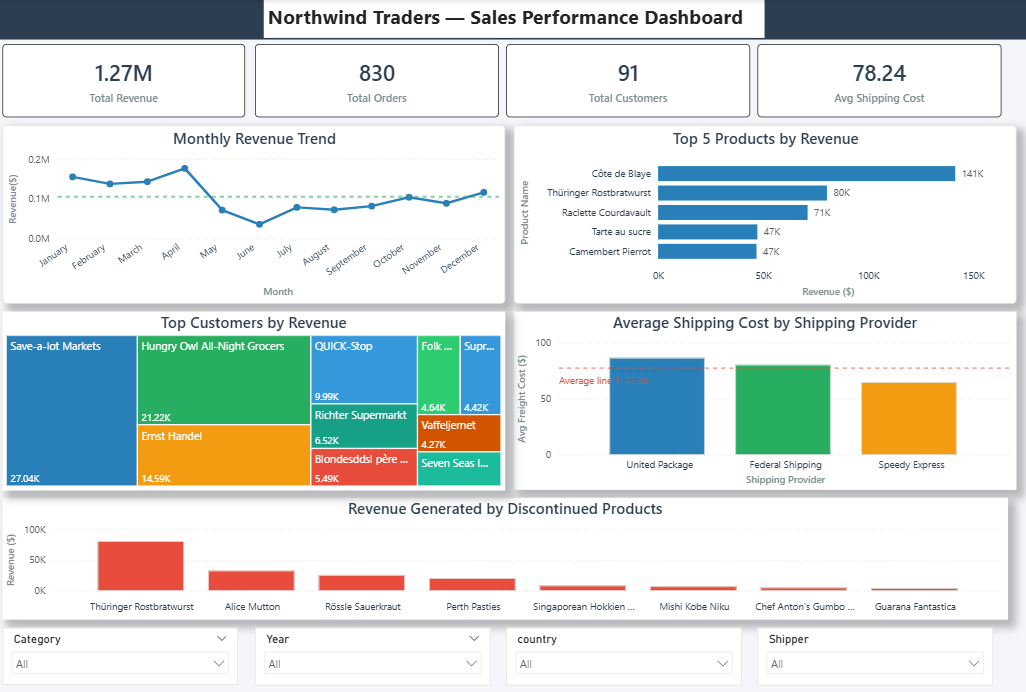

The dashboard page shown, as its layout file describes it:
{"tool":"powerbi","page":{"name":"Sales Dashboard","canvas":[1280,920],"ordinal":0},"visuals":[{"type":"shape","box":[0,0,1280.3,50],"z":0},{"type":"textbox","box":[331.3,0,617.5,48],"z":1000},{"type":"card","fields":{"Values":["categories.Total Revenue"]},"box":[10,55.5,299.1,90],"z":2000},{"type":"card","fields":{"Values":["Count(customers.customerID)"]},"box":[630,55.5,300.6,90],"z":3000},{"type":"card","fields":{"Values":["Avg(orders.freight)"]},"box":[940,55,300.6,90],"z":4000},{"type":"card","fields":{"Values":["categories.Total orders"]},"box":[320,55.5,300.6,90],"z":5000},{"type":"lineChart","title":"Monthly Revenue Trend","fields":{"Y":["categories.Total Revenue"],"Category":["orders.orderDate.Variation.Date Hierarchy.Month"]},"box":[10,155,620,220],"z":6000},{"type":"clusteredBarChart","title":"Top 5 Products by Revenue","fields":{"Category":["products.productName"],"Y":["categories.Total Revenue"]},"box":[640,155,620,220],"z":7000},{"type":"clusteredColumnChart","title":"Average Shipping Cost by Shipping Provider","fields":{"Category":["shippers.companyName"],"Y":["Avg(orders.freight)"]},"box":[640,385,620,220],"z":8000},{"type":"clusteredColumnChart","title":"Revenue Generated by Discontinued Products","fields":{"Category":["products.productName"],"Y":["categories.Total Revenue"]},"box":[16,624,1248,144],"z":9000},{"type":"treemap","title":"Top Customers by Revenue","fields":{"Group":["customers.companyName"],"Values":["categories.Total Revenue"]},"box":[10,385,620,220.4],"z":10000},{"type":"slicer","fields":{"Values":["categories.categoryName"]},"box":[10,775,290,70],"z":11000},{"type":"slicer","fields":{"Values":["orders.orderDate.Variation.Date Hierarchy.Year"]},"box":[320,775,290,70.9],"z":12000},{"type":"slicer","fields":{"Values":["shippers.companyName"]},"box":[940,775,290,70.9],"z":13000},{"type":"slicer","fields":{"Values":["customers.country"]},"box":[630,775,290,70.9],"z":14000}]}

Visuals, with their boxes on the page's 1280x920 design canvas (x1, y1, x2, y2). These are canvas units, not pixel positions in the 1026x692 screenshot, which may show the page scaled, cropped or inside an application window:
shape: <region>0, 0, 1280, 50</region>
textbox: <region>331, 0, 949, 48</region>
card - categories.Total Revenue: <region>10, 56, 309, 146</region>
card - Count(customers.customerID): <region>630, 56, 931, 146</region>
card - Avg(orders.freight): <region>940, 55, 1241, 145</region>
card - categories.Total orders: <region>320, 56, 621, 146</region>
"Monthly Revenue Trend" lineChart: <region>10, 155, 630, 375</region>
"Top 5 Products by Revenue" clusteredBarChart: <region>640, 155, 1260, 375</region>
"Average Shipping Cost by Shipping Provider" clusteredColumnChart: <region>640, 385, 1260, 605</region>
"Revenue Generated by Discontinued Products" clusteredColumnChart: <region>16, 624, 1264, 768</region>
"Top Customers by Revenue" treemap: <region>10, 385, 630, 605</region>
slicer - categories.categoryName: <region>10, 775, 300, 845</region>
slicer - orders.orderDate.Variation.Date Hierarchy.Year: <region>320, 775, 610, 846</region>
slicer - shippers.companyName: <region>940, 775, 1230, 846</region>
slicer - customers.country: <region>630, 775, 920, 846</region>
